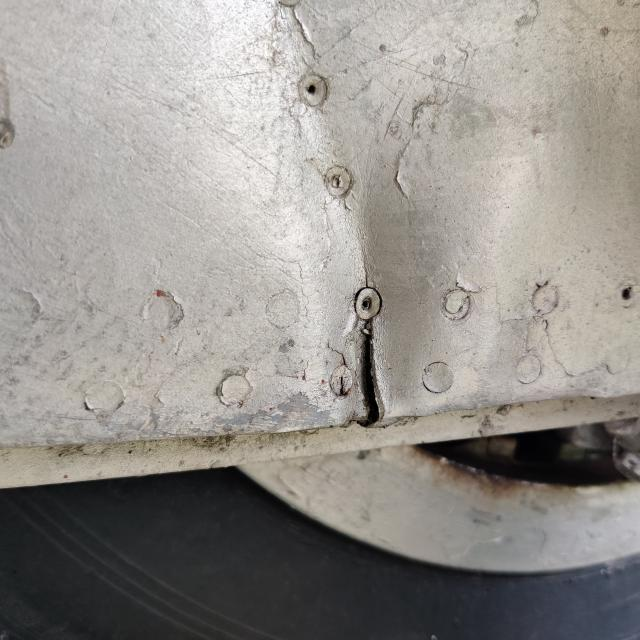Crack: (351, 319, 385, 426)
